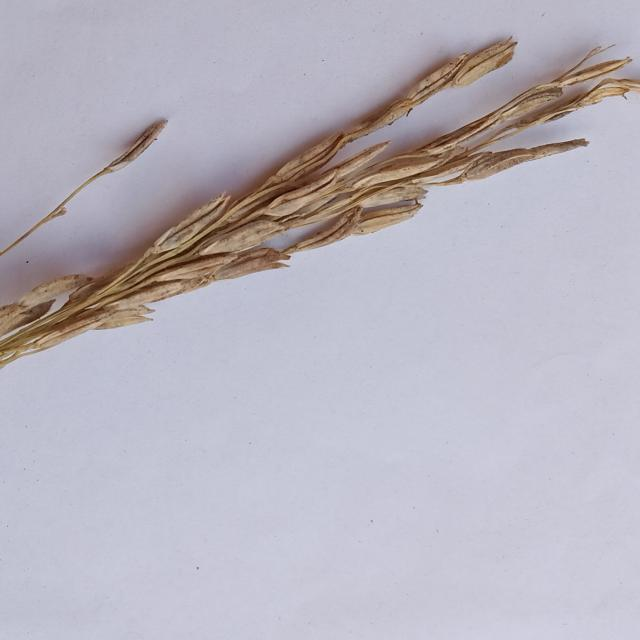Neck_Blast: (5, 36, 638, 366)
